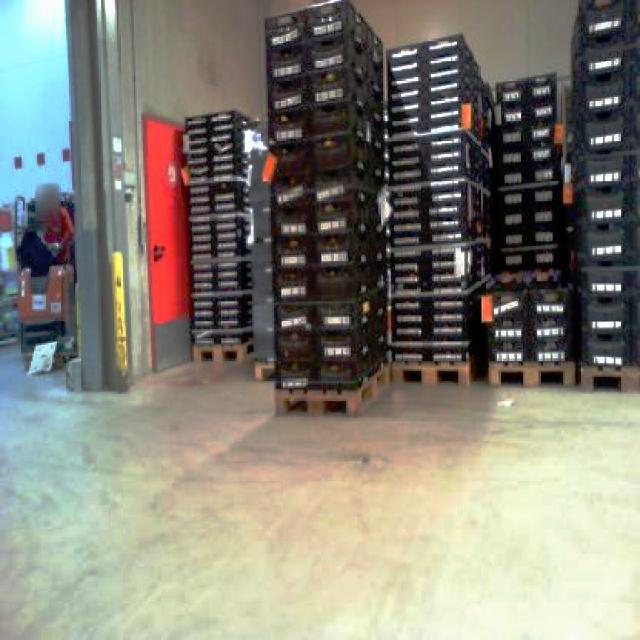ground: (0, 337, 638, 638)
pallet: (182, 0, 638, 414), (262, 0, 389, 417), (385, 31, 492, 386), (483, 71, 574, 386), (566, 0, 638, 392), (180, 108, 254, 363), (251, 120, 274, 380)
